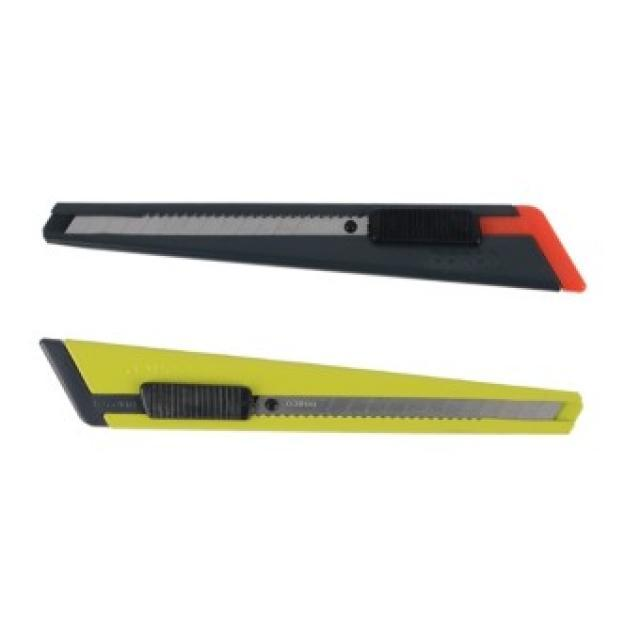cutter: (39, 322, 596, 464), (35, 178, 591, 310)
